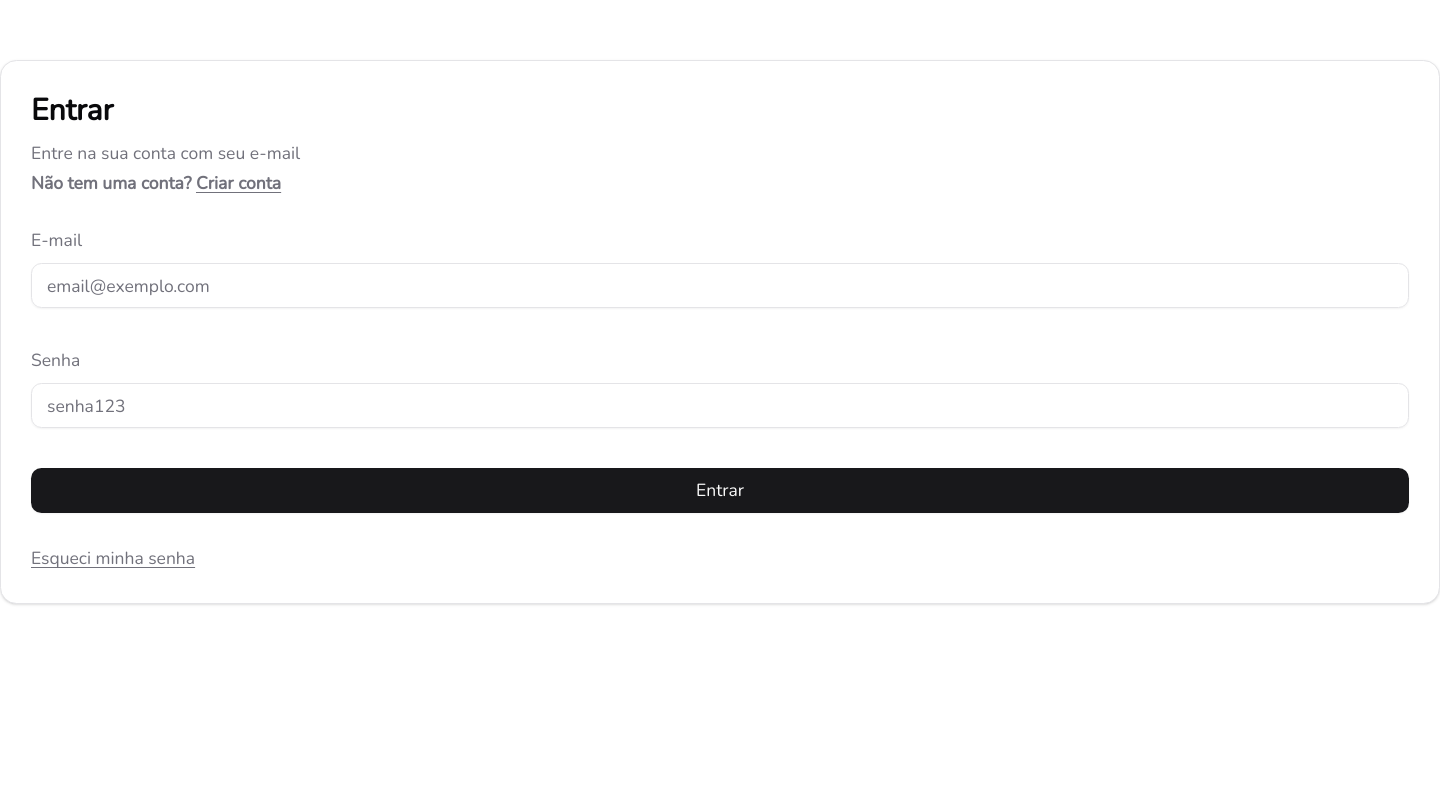
Scenario: Login Page Component › says the credentials were refused, and stays put
The image size is (1440, 810).
Type "pessoa@exemplo.com" into the field labelled "E-mail" at point(720, 286), box [31, 264, 1409, 308]
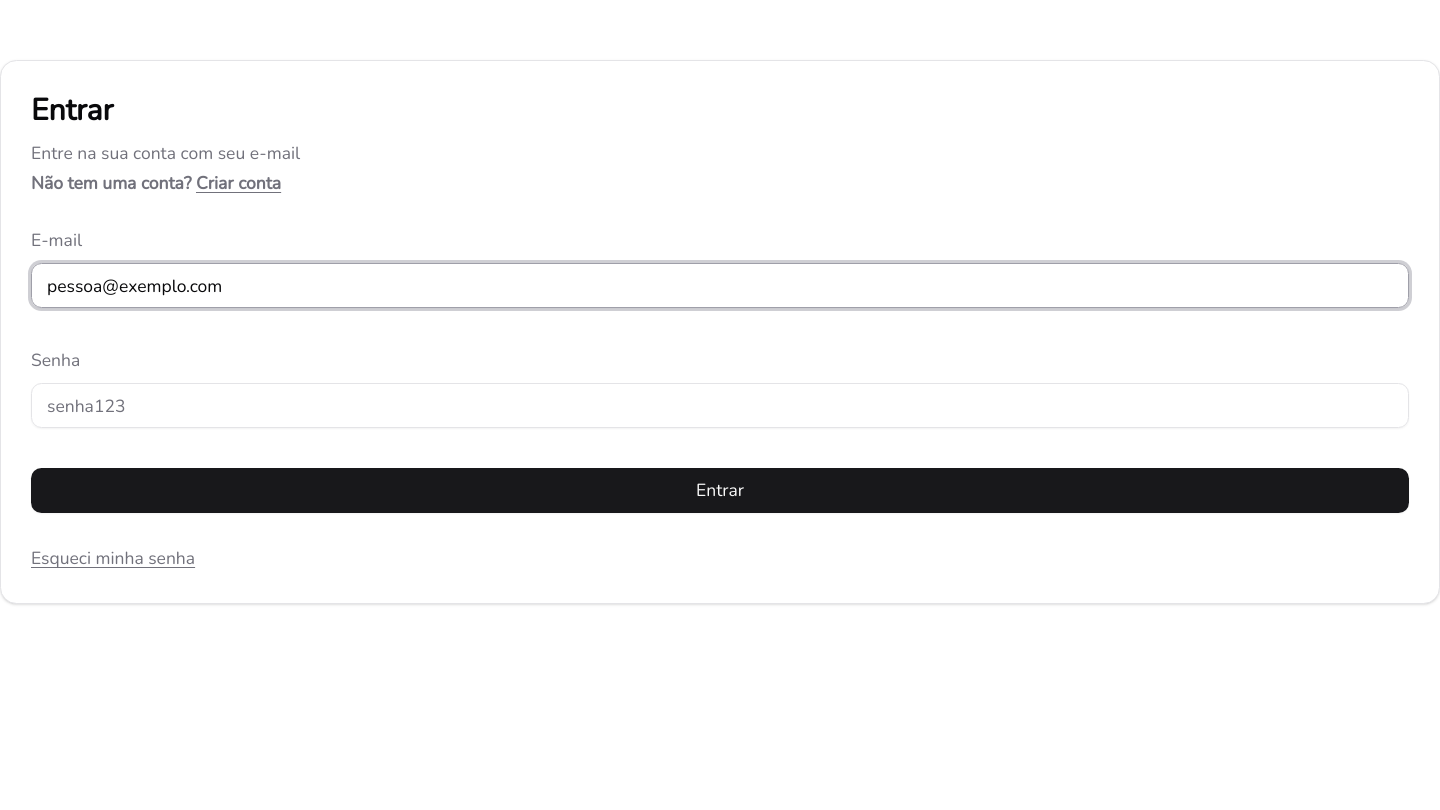
Type "segredo123" into the password field labelled "Senha" at point(720, 406), box [31, 384, 1409, 428]
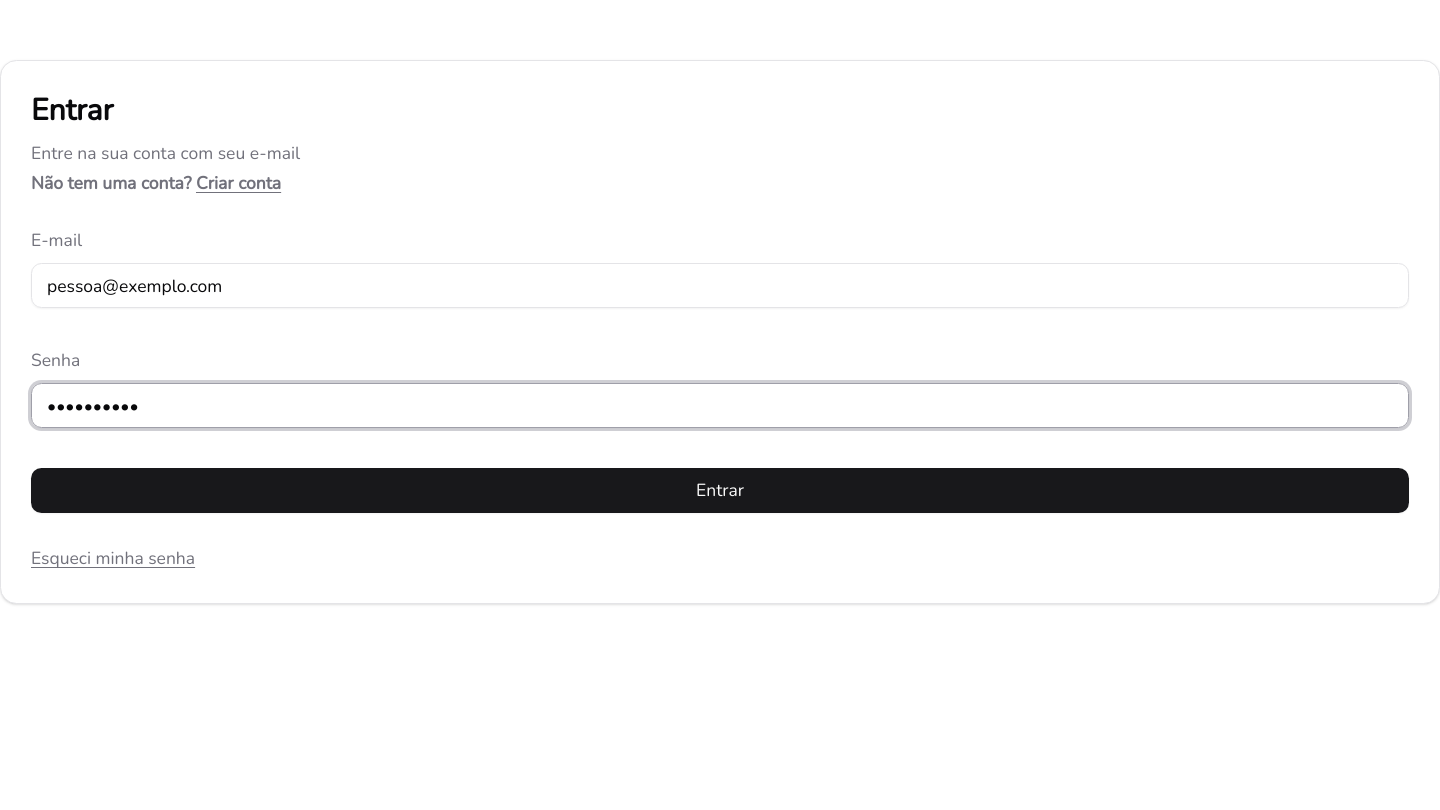
Click the button "Entrar" at point(720, 491), box [31, 468, 1409, 514]
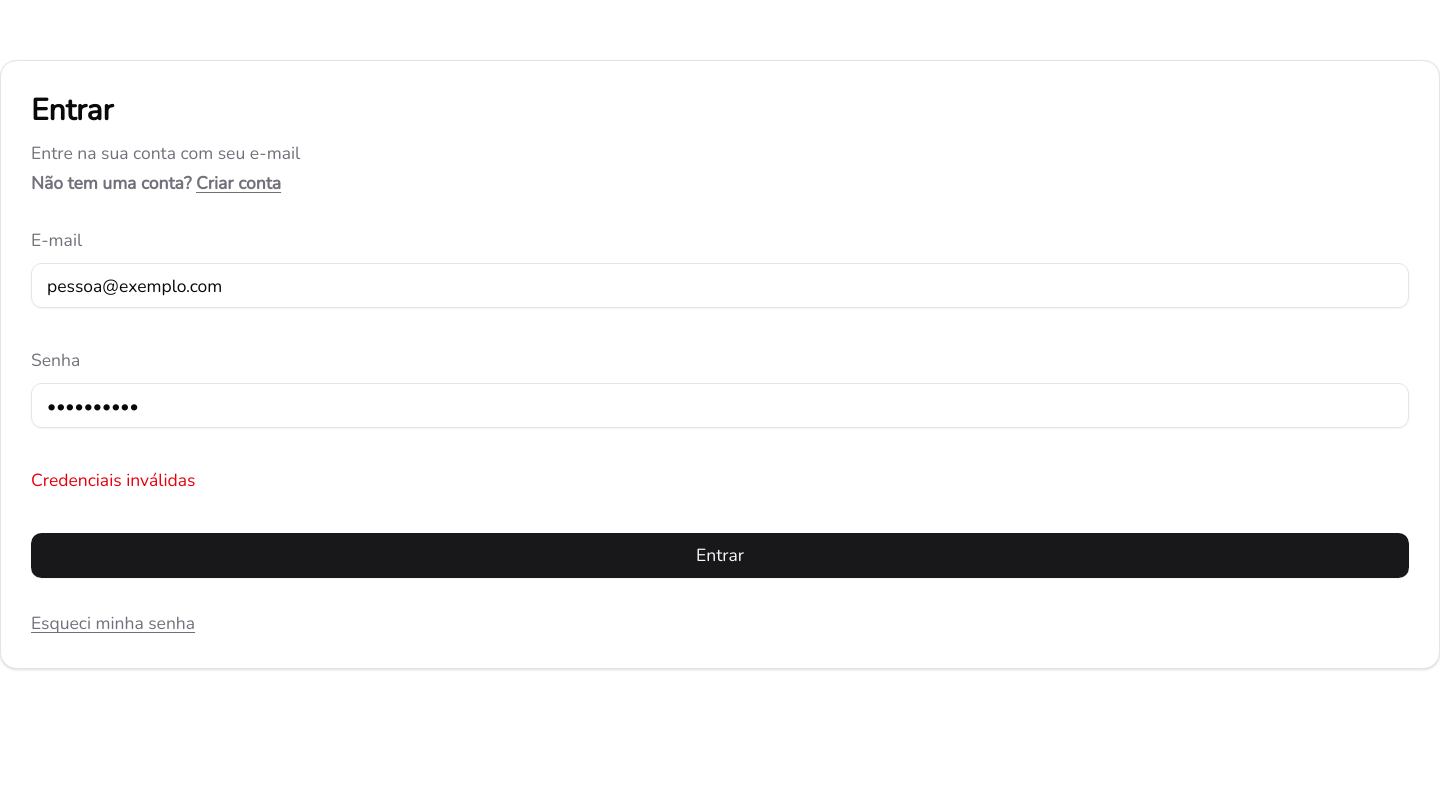
Expected: the text "Credenciais inválidas" is shown, [31, 468, 196, 492]
